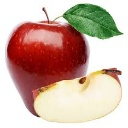apple: (30, 68, 123, 123)
